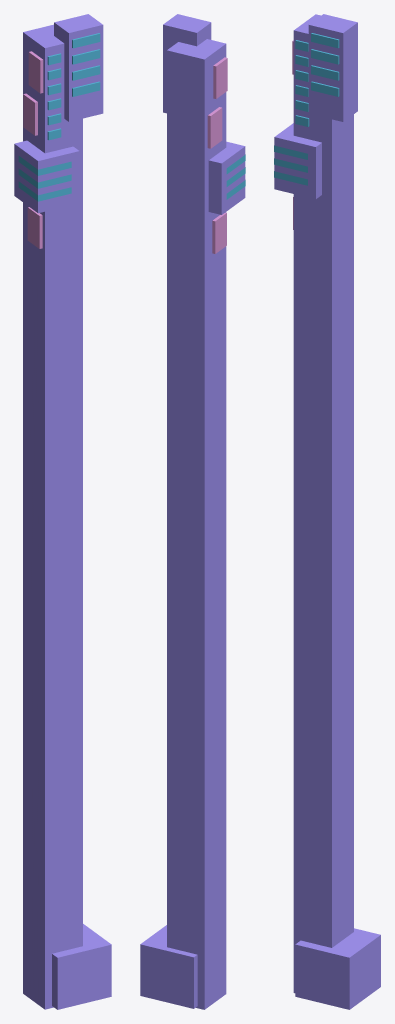
File: Build_2.fbx
The picture shows the model from 3 angles, left to right: view 1: azimuth 30°, elevation 25°; view 2: azimuth 150°, elevation 25°; view 3: azimuth 330°, elevation 25°; orthographic projection.
Parts seen in each view (by area): view 1: Build_2; view 2: Build_2; view 3: Build_2.
Part boxes in pixels (left/top/right/bottom): Build_2: left=14, top=14, right=111, bottom=1009; Build_2: left=140, top=14, right=245, bottom=1009; Build_2: left=274, top=14, right=380, bottom=1009.
Bounding box in the file's own units: 85.37 × 1067 × 63.8.
